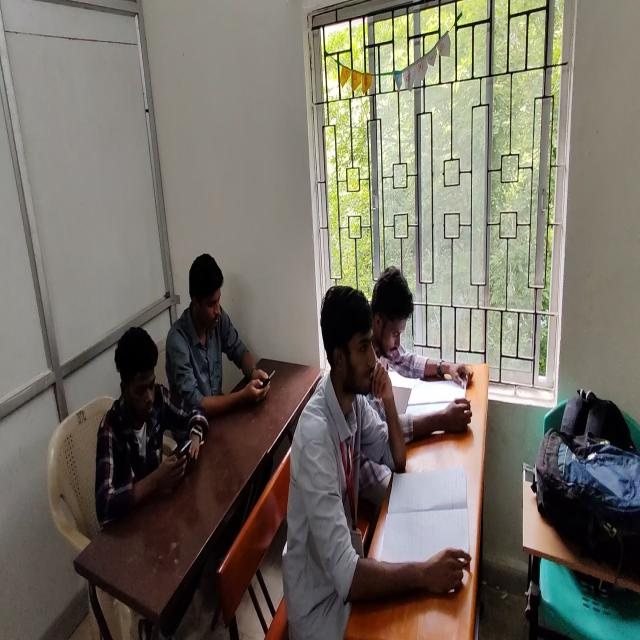reading: (295, 285, 441, 640), (369, 264, 469, 391)
using_mobile: (96, 323, 212, 531), (162, 250, 268, 439)
